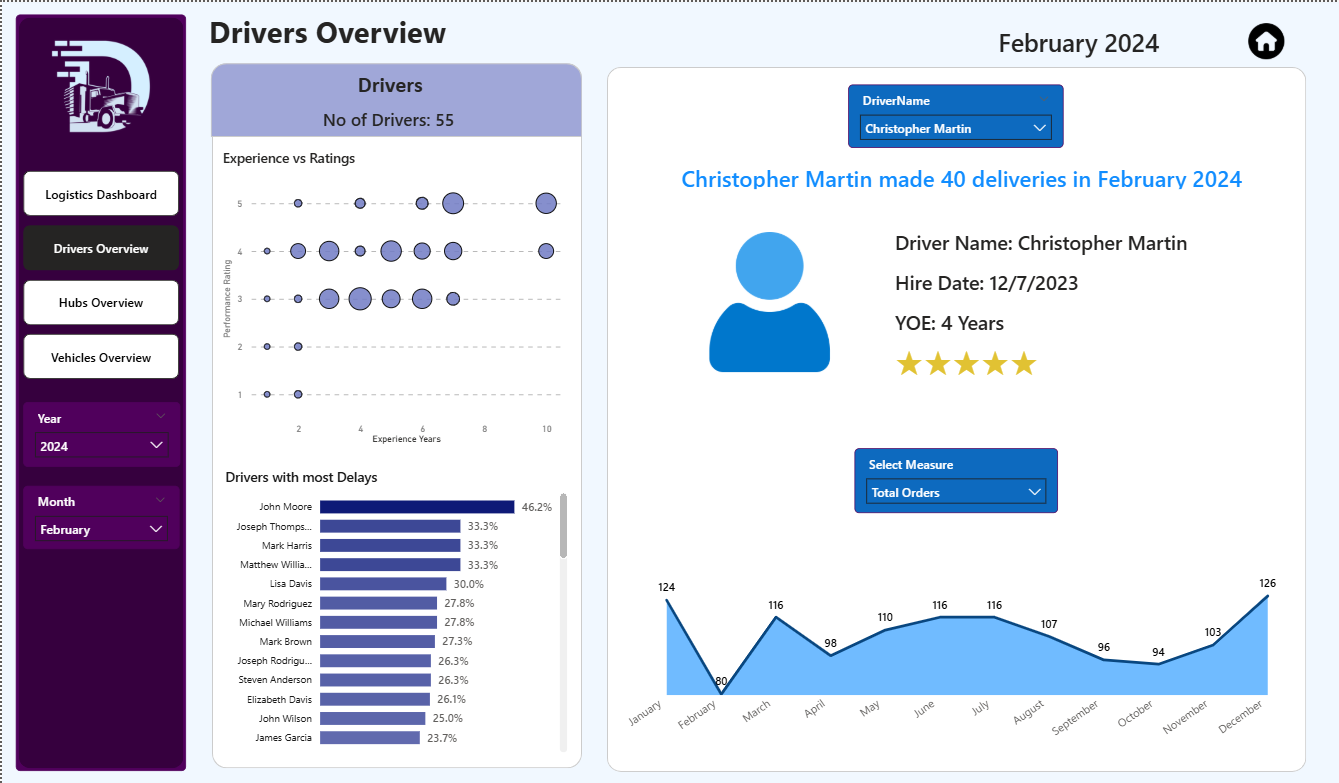

Layout of this report page (visuals, bound fields, positions):
{"tool":"powerbi","page":{"name":"Drivers Overview","canvas":[1450,850],"ordinal":1},"visuals":[{"type":"shape","box":[15.5,14,185,820.8],"z":0},{"type":"textbox","box":[219.7,5.4,383.8,58.3],"z":1000},{"type":"slicer","fields":{"Values":["Date Table.Year"]},"box":[22.9,434.3,170,70],"z":2000},{"type":"slicer","fields":{"Values":["Date Table.Month"]},"box":[23.1,525.2,169.5,69.2],"z":3000},{"type":"shape","box":[227.8,66.4,401.4,764.8],"z":4000},{"type":"shape","box":[226.5,66.4,402.8,80],"z":5000},{"type":"textbox","box":[271.2,69.8,300,40],"z":6000},{"type":"cardVisual","fields":{"Data":["Drivers.No of Drivers"]},"box":[316.9,108.4,204.3,35.7],"z":7000},{"type":"scatterChart","title":"Experience vs Ratings","fields":{"X":["Drivers.Experience Years"],"Y":["Drivers.Performance Rating"],"Size":["Sum(Drivers.Experience Years)1"]},"box":[234.6,158.7,383.8,325.5],"z":8000},{"type":"barChart","title":"Drivers with most Delays","fields":{"Category":["Drivers.DriverName"],"Y":["Orders.Delayed Delivery Rate"]},"box":[237.3,504.5,381.1,314.6],"z":9000},{"type":"image","box":[43.4,29.8,130.2,131.5],"z":10000},{"type":"cardVisual","fields":{"Data":["Orders.Year Month Title"]},"box":[1025.2,16.3,286.1,50.2],"z":11000},{"type":"shape","box":[656,70,758.6,764.8],"z":12000},{"type":"slicer","fields":{"Values":["Drivers.DriverName"]},"box":[918.1,89.5,233.2,69.2],"z":13000},{"type":"cardVisual","fields":{"Data":["Drivers.Drivers Title"]},"box":[680.8,172.2,721.4,36.6],"z":14000},{"type":"cardVisual","fields":{"Data":["Drivers.Drivers Name Title","Drivers.Hire Date Title","Drivers.YOE","Drivers.Star Rating"]},"box":[939.8,225.1,412.3,199.3],"z":15000},{"type":"image","box":[747.2,249.5,170.9,151.9],"z":16000},{"type":"areaChart","fields":{"Y":["Orders.Total Orders"],"Category":["Date Table.Month"]},"box":[668.6,598,733.7,221],"z":17000},{"type":"slicer","fields":{"Values":["Select Measure.Select Measure"]},"box":[924.9,484.1,221,70.5],"z":18000},{"type":"image","box":[1352,14.9,39.3,55.6],"z":19000},{"type":"pageNavigator","box":[23.1,183.1,169.5,226.5],"z":19001}]}

Visuals, with their boxes in screenshot pixels (x1, y1, x2, y2), scaled from the page's 1450x850 canvas onto the 1339x783 screenshot:
shape: 14 13 185 769
textbox: 203 5 557 59
slicer - Date Table.Year: 21 400 178 465
slicer - Date Table.Month: 21 484 178 548
shape: 210 61 581 766
shape: 209 61 581 135
textbox: 250 64 527 101
cardVisual - Drivers.No of Drivers: 293 100 481 133
"Experience vs Ratings" scatterChart: 217 146 571 446
"Drivers with most Delays" barChart: 219 465 571 755
image: 40 27 160 149
cardVisual - Orders.Year Month Title: 947 15 1211 61
shape: 606 64 1306 769
slicer - Drivers.DriverName: 848 82 1063 146
cardVisual - Drivers.Drivers Title: 629 159 1295 192
cardVisual - Drivers.Drivers Name Title x Drivers.Hire Date Title: 868 207 1249 391
image: 690 230 848 370
areaChart - Orders.Total Orders x Date Table.Month: 617 551 1295 754
slicer - Select Measure.Select Measure: 854 446 1058 511
image: 1249 14 1285 65
pageNavigator: 21 169 178 377
